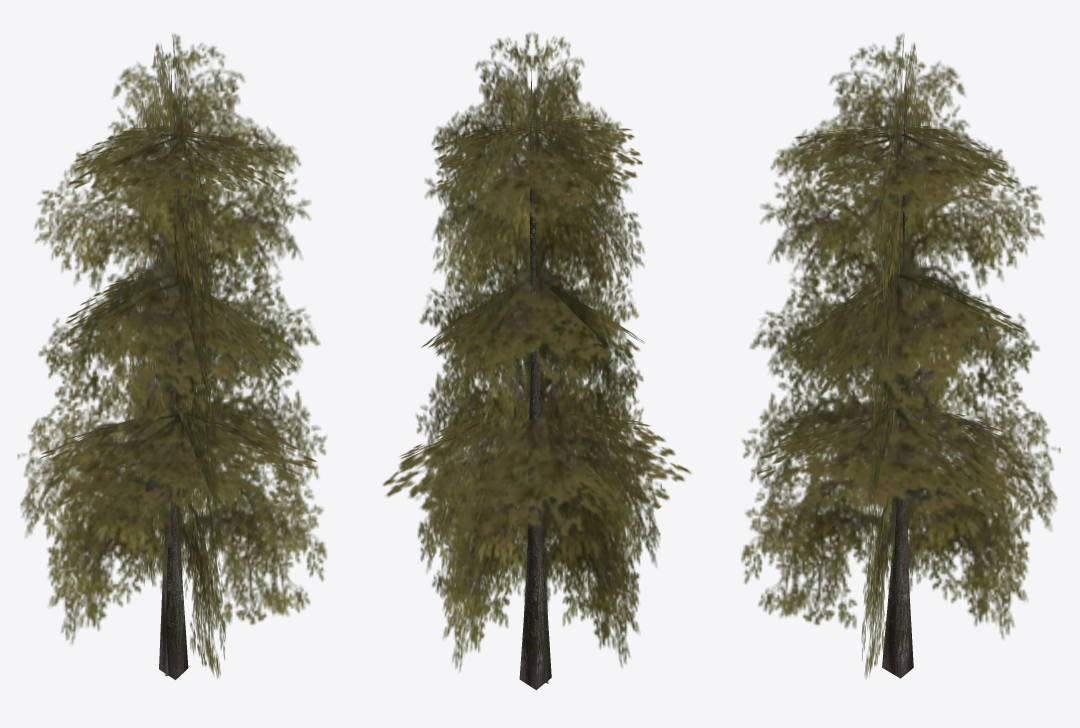
The model's file is Oak_658.gltf.
3 renders of one model, left to right at view 1: azimuth 30°, elevation 25°; view 2: azimuth 150°, elevation 25°; view 3: azimuth 270°, elevation 25°, orthographic. The views are drawn at different scales.
Visible parts, largest first — view 1: Oak_658; view 2: Oak_658; view 3: Oak_658.
Part boxes in pixels (x1=…): Oak_658: x1=17, y1=34, x2=326, y2=679; Oak_658: x1=383, y1=33, x2=691, y2=689; Oak_658: x1=741, y1=34, x2=1060, y2=678.
Size of the model in its own units: 10.41 by 22.9 by 10.65.
2 materials, 2 textured.
